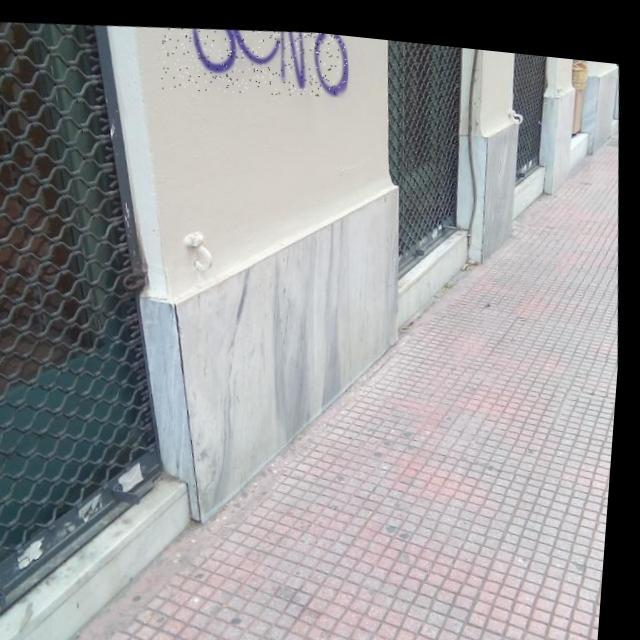-: (158, 13, 351, 102)
